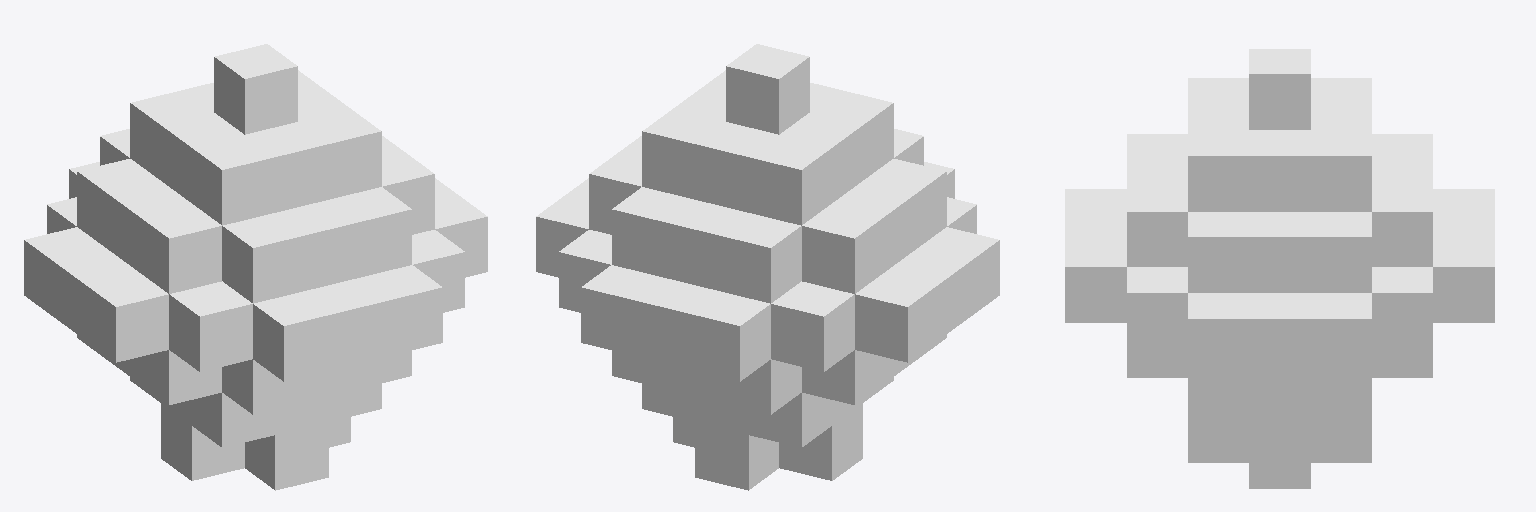
Rendered from Cuia.obj.
3 renders of one model, left to right at view 1: azimuth 30°, elevation 25°; view 2: azimuth 150°, elevation 25°; view 3: azimuth 270°, elevation 25°, orthographic.
Bounding box in the file's own units: 7 × 7 × 7.